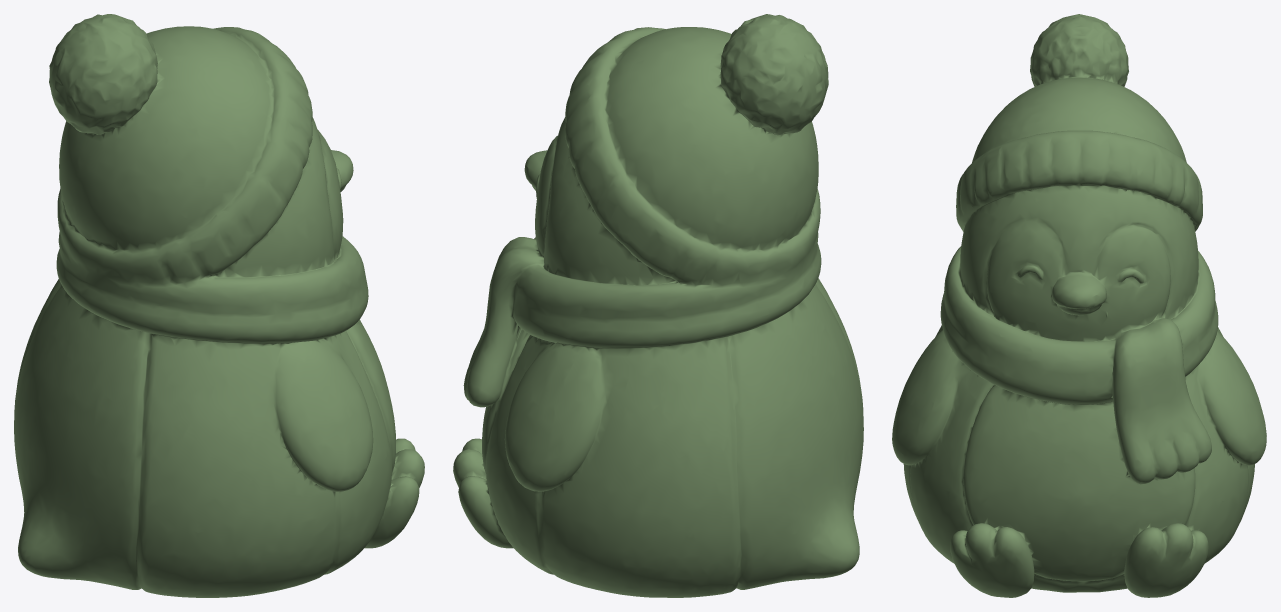
Rendered from winter-penguin.glb.
3 renders of one model, left to right at view 1: azimuth 30°, elevation 25°; view 2: azimuth 150°, elevation 25°; view 3: azimuth 270°, elevation 25°, orthographic. The views are drawn at different scales.
Visible parts, largest first — view 1: tripo_printable_source; view 2: tripo_printable_source; view 3: tripo_printable_source.
Boxes of the visible parts, x1=… form: tripo_printable_source: x1=14, y1=14, x2=424, y2=597; tripo_printable_source: x1=453, y1=14, x2=863, y2=597; tripo_printable_source: x1=892, y1=14, x2=1266, y2=597.
Bounding box in the file's own units: 67.29 × 100 × 70.
